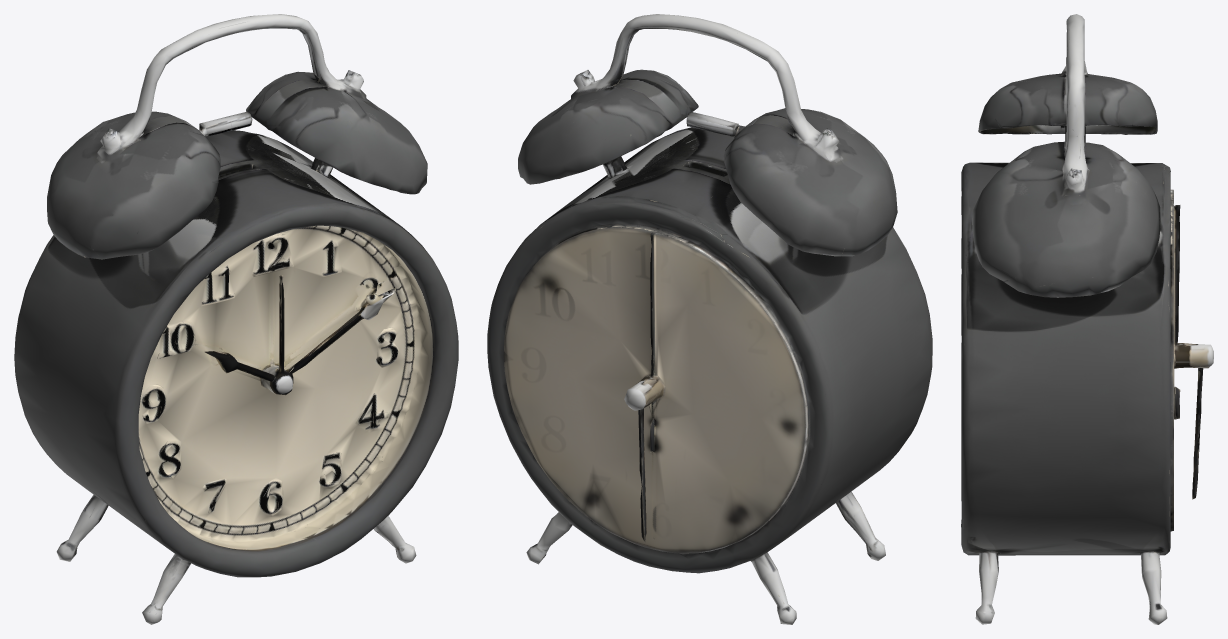
Rendered from ALARM.fbx.
The picture shows the model from 3 angles, left to right: view 1: azimuth 30°, elevation 25°; view 2: azimuth 150°, elevation 25°; view 3: azimuth 270°, elevation 25°; orthographic projection. The views are drawn at different scales.
Visible parts, largest first — view 1: Mesh_0; view 2: Mesh_0; view 3: Mesh_0.
Boxes of the visible parts, x1,y1,x2,y2 form: Mesh_0: (14,14,458,624); Mesh_0: (487,14,932,624); Mesh_0: (961,14,1213,624).
Size of the model in its own units: 129 by 191 by 82.74.
1 material, 1 textured.
